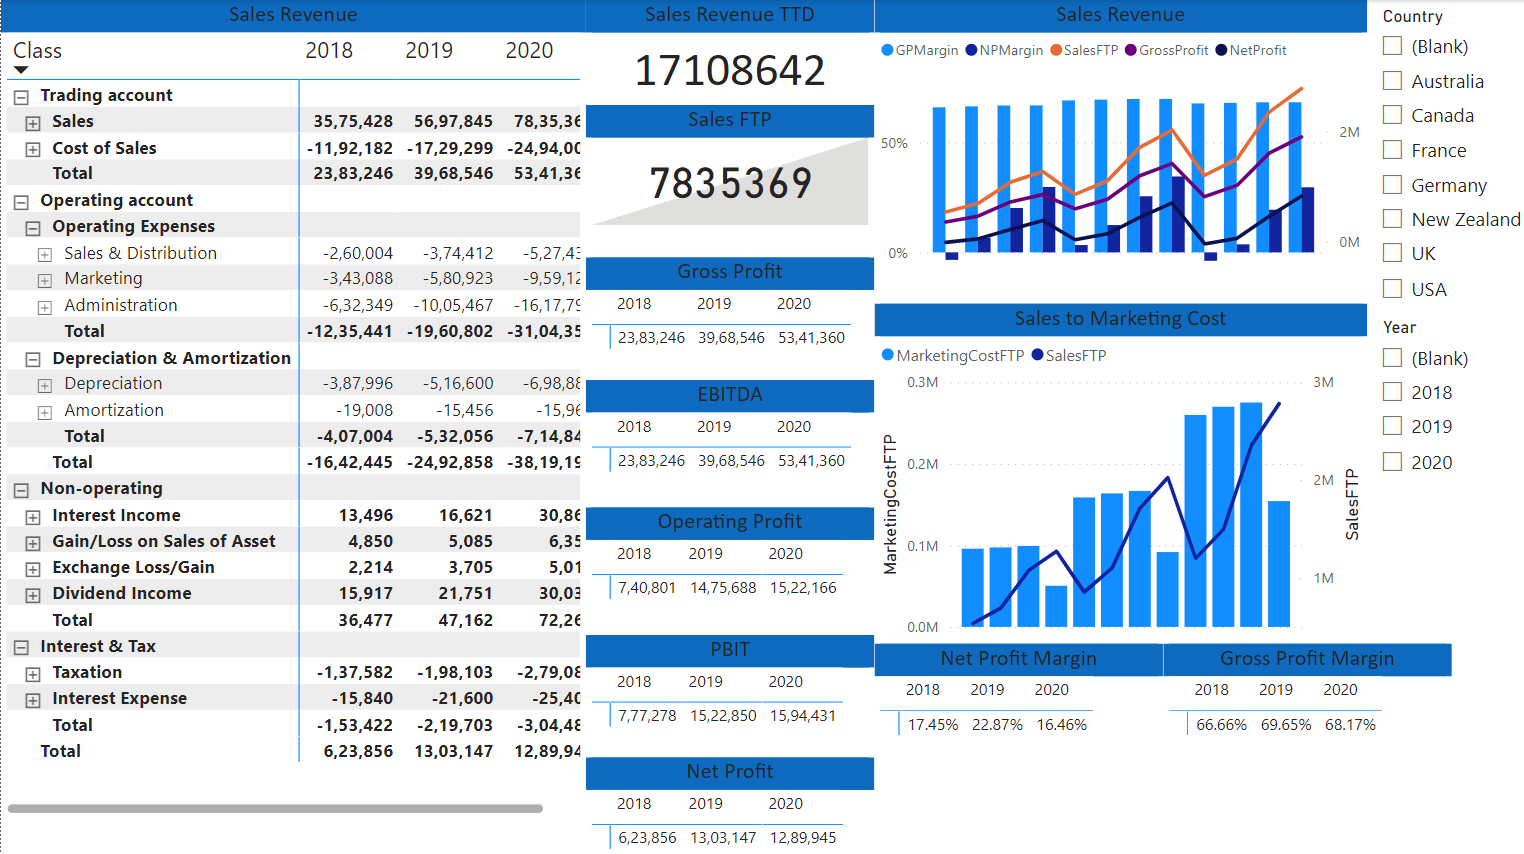

Layout of this report page (visuals, bound fields, positions):
{"tool":"powerbi","page":{"name":"Enhanced P & L","canvas":[1280,720],"ordinal":3},"visuals":[{"type":"pivotTable","title":"Sales Revenue","fields":{"Values":["tbl_GL.Total_FTP"],"Rows":["tbl_ChartofAccounts.Class","tbl_ChartofAccounts.SubClass","tbl_ChartofAccounts.SubClass2","tbl_ChartofAccounts.Account"],"Columns":["tbl_Calendar.Date.Variation.Date Hierarchy.Year","tbl_Calendar.Date.Variation.Date Hierarchy.Quarter","tbl_Calendar.Date.Variation.Date Hierarchy.Month","tbl_Calendar.Date.Variation.Date Hierarchy.Day"]},"box":[0,0,490.7,687.2],"z":0},{"type":"slicer","fields":{"Values":["tbl_territory.Country"]},"box":[1145.4,0,134.9,266.3],"z":1000},{"type":"pivotTable","title":"Gross Profit","fields":{"Columns":["tbl_Calendar.Date.Variation.Date Hierarchy.Year","tbl_Calendar.Date.Variation.Date Hierarchy.Quarter","tbl_Calendar.Date.Variation.Date Hierarchy.Month","tbl_Calendar.Date.Variation.Date Hierarchy.Day"],"Values":["tbl_GL.GrossProfit"]},"box":[490.7,216.3,241.9,94.2],"z":2000},{"type":"pivotTable","title":"Operating Profit","fields":{"Values":["tbl_GL.OperatingProfirt"],"Columns":["tbl_Calendar.Date.Variation.Date Hierarchy.Year","tbl_Calendar.Date.Variation.Date Hierarchy.Quarter","tbl_Calendar.Date.Variation.Date Hierarchy.Month","tbl_Calendar.Date.Variation.Date Hierarchy.Day"]},"box":[490.7,425.6,241.9,87.2],"z":3000},{"type":"pivotTable","title":"PBIT","fields":{"Values":["tbl_GL.PBIT"],"Columns":["tbl_Calendar.Date.Variation.Date Hierarchy.Year","tbl_Calendar.Date.Variation.Date Hierarchy.Quarter","tbl_Calendar.Date.Variation.Date Hierarchy.Month","tbl_Calendar.Date.Variation.Date Hierarchy.Day"]},"box":[490.7,532.6,241.9,86],"z":4000},{"type":"pivotTable","title":"Net Profit","fields":{"Values":["tbl_GL.NetProfit"],"Columns":["tbl_Calendar.Date.Variation.Date Hierarchy.Year","tbl_Calendar.Date.Variation.Date Hierarchy.Quarter","tbl_Calendar.Date.Variation.Date Hierarchy.Month","tbl_Calendar.Date.Variation.Date Hierarchy.Day"]},"box":[490.7,634.9,241.9,84.9],"z":5000},{"type":"pivotTable","title":"EBITDA","fields":{"Values":["tbl_GL.EBITDA"],"Columns":["tbl_Calendar.Date.Variation.Date Hierarchy.Year","tbl_Calendar.Date.Variation.Date Hierarchy.Quarter","tbl_Calendar.Date.Variation.Date Hierarchy.Month","tbl_Calendar.Date.Variation.Date Hierarchy.Day"]},"box":[490.7,318.6,241.9,87.2],"z":6000},{"type":"card","title":"Sales Revenue TTD","fields":{"Values":["Sum(tbl_GL.Amount)"]},"box":[490.7,0,241.9,88.4],"z":7000},{"type":"kpi","title":"Sales FTP","fields":{"Indicator":["Sum(tbl_GL.Amount)"],"TrendLine":["tbl_Calendar.Date.Variation.Date Hierarchy.Year"]},"box":[490.7,88.4,241.9,105.8],"z":8000},{"type":"slicer","fields":{"Values":["tbl_Calendar.Year"]},"box":[1145.4,260.5,134.9,155.8],"z":9000},{"type":"lineClusteredColumnComboChart","title":"Sales Revenue","fields":{"Category":["tbl_Calendar.Date.Variation.Date Hierarchy.Year","tbl_Calendar.Date.Variation.Date Hierarchy.Quarter","tbl_Calendar.Date.Variation.Date Hierarchy.Month","tbl_Calendar.Date.Variation.Date Hierarchy.Day"],"Y2":["tbl_GL.SalesFTP","tbl_GL.GrossProfit","tbl_GL.NetProfit"],"Y":["tbl_GL.GPMargin","tbl_GL.NPMargin"]},"box":[732.6,0,412.8,254.7],"z":10000},{"type":"lineStackedColumnComboChart","title":"Sales to Marketing Cost","fields":{"Category":["tbl_Calendar.Date.Variation.Date Hierarchy.Year","tbl_Calendar.Date.Variation.Date Hierarchy.Quarter","tbl_Calendar.Date.Variation.Date Hierarchy.Month","tbl_Calendar.Date.Variation.Date Hierarchy.Day"],"Y":["tbl_GL.MarketingCostFTP"],"Y2":["tbl_GL.SalesFTP"]},"box":[732.6,254.7,412.8,284.9],"z":11000},{"type":"pivotTable","title":"Gross Profit Margin","fields":{"Columns":["tbl_Calendar.Date.Variation.Date Hierarchy.Year","tbl_Calendar.Date.Variation.Date Hierarchy.Quarter","tbl_Calendar.Date.Variation.Date Hierarchy.Month","tbl_Calendar.Date.Variation.Date Hierarchy.Day"],"Values":["tbl_GL.GPMargin"]},"box":[974.4,539.5,241.9,87.2],"z":12000},{"type":"pivotTable","title":"Net Profit Margin","fields":{"Columns":["tbl_Calendar.Date.Variation.Date Hierarchy.Year","tbl_Calendar.Date.Variation.Date Hierarchy.Quarter","tbl_Calendar.Date.Variation.Date Hierarchy.Month","tbl_Calendar.Date.Variation.Date Hierarchy.Day"],"Values":["tbl_GL.NPMargin"]},"box":[732.6,539.5,241.9,87.2],"z":13000}]}

Visuals, with their boxes in screenshot pixels (x1, y1, x2, y2), scaled from the page's 1280x720 canvas onto the 1524x854 screenshot:
"Sales Revenue" pivotTable: box=[0, 0, 584, 815]
slicer - tbl_territory.Country: box=[1364, 0, 1523, 316]
"Gross Profit" pivotTable: box=[584, 257, 872, 368]
"Operating Profit" pivotTable: box=[584, 505, 872, 608]
"PBIT" pivotTable: box=[584, 632, 872, 734]
"Net Profit" pivotTable: box=[584, 753, 872, 853]
"EBITDA" pivotTable: box=[584, 378, 872, 481]
"Sales Revenue TTD" card: box=[584, 0, 872, 105]
"Sales FTP" kpi: box=[584, 105, 872, 230]
slicer - tbl_Calendar.Year: box=[1364, 309, 1523, 494]
"Sales Revenue" lineClusteredColumnComboChart: box=[872, 0, 1364, 302]
"Sales to Marketing Cost" lineStackedColumnComboChart: box=[872, 302, 1364, 640]
"Gross Profit Margin" pivotTable: box=[1160, 640, 1448, 743]
"Net Profit Margin" pivotTable: box=[872, 640, 1160, 743]
